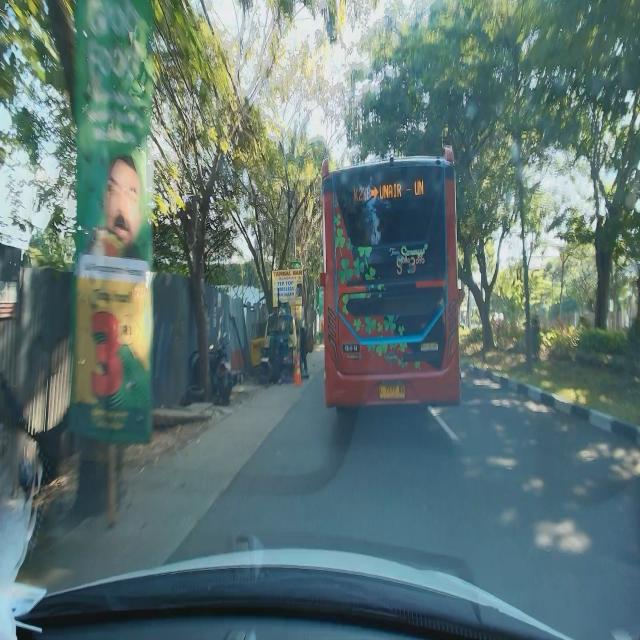bus: (319, 144, 463, 416)
license-plate: (379, 382, 406, 401)
